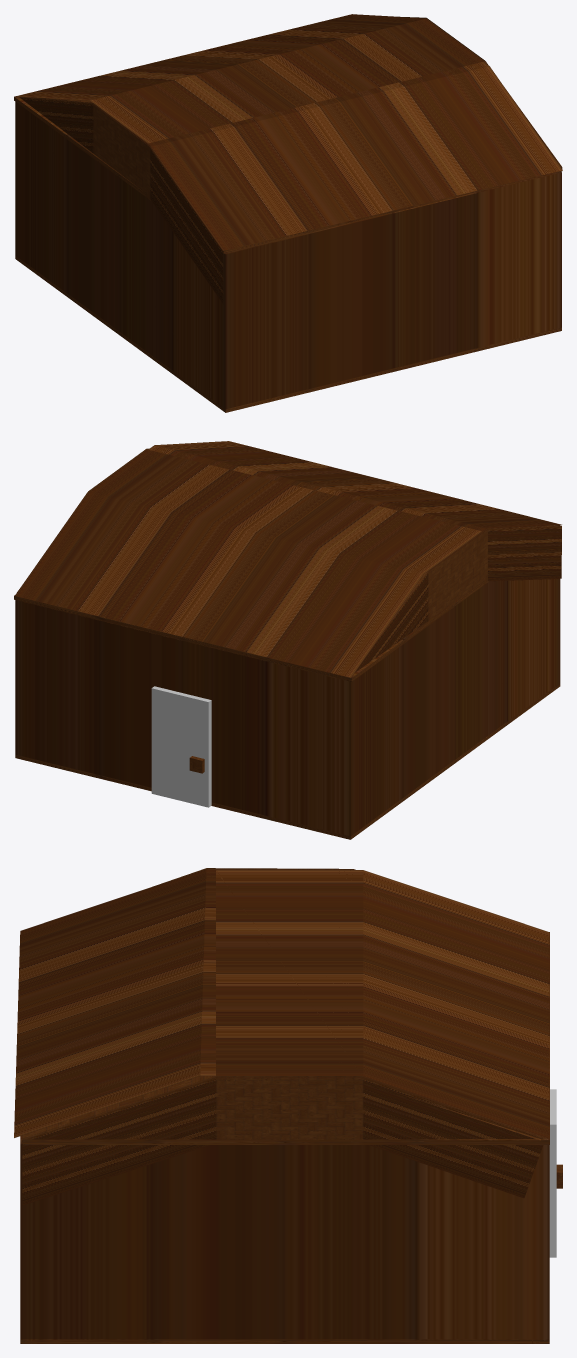
File: RPG House 3.fbx
3 views of the same model, one above another, from view 1: azimuth 30°, elevation 25°; view 2: azimuth 150°, elevation 25°; view 3: azimuth 270°, elevation 25° (orthographic). The views are drawn at different scales.
Visible parts, largest first — view 1: Cube, Plane.001, Plane; view 2: Cube, Plane, Plane.001, Cube.001; view 3: Plane, Cube, Plane.001, Cube.001.
Part boxes in pixels (x1,y1,x2,y2): Cube: [14, 14, 562, 412]; Plane.001: [18, 28, 562, 303]; Plane: [15, 14, 561, 167]; Cube: [14, 525, 560, 839]; Plane: [15, 448, 549, 677]; Plane.001: [18, 441, 561, 672]; Cube.001: [151, 686, 211, 807]; Plane: [22, 870, 549, 1205]; Cube: [20, 932, 549, 1343]; Plane.001: [14, 868, 540, 1140]; Cube.001: [549, 1089, 556, 1257].
Size of the model in its own units: 1190 by 710 by 1317.
